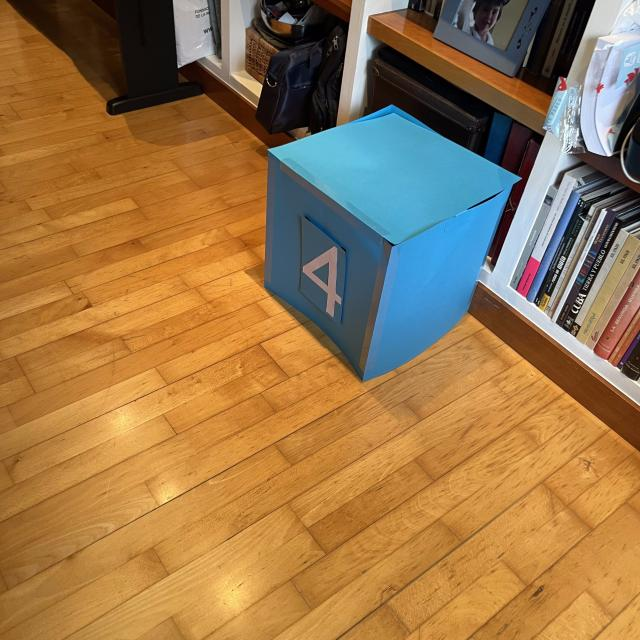box: (261, 102, 522, 382)
